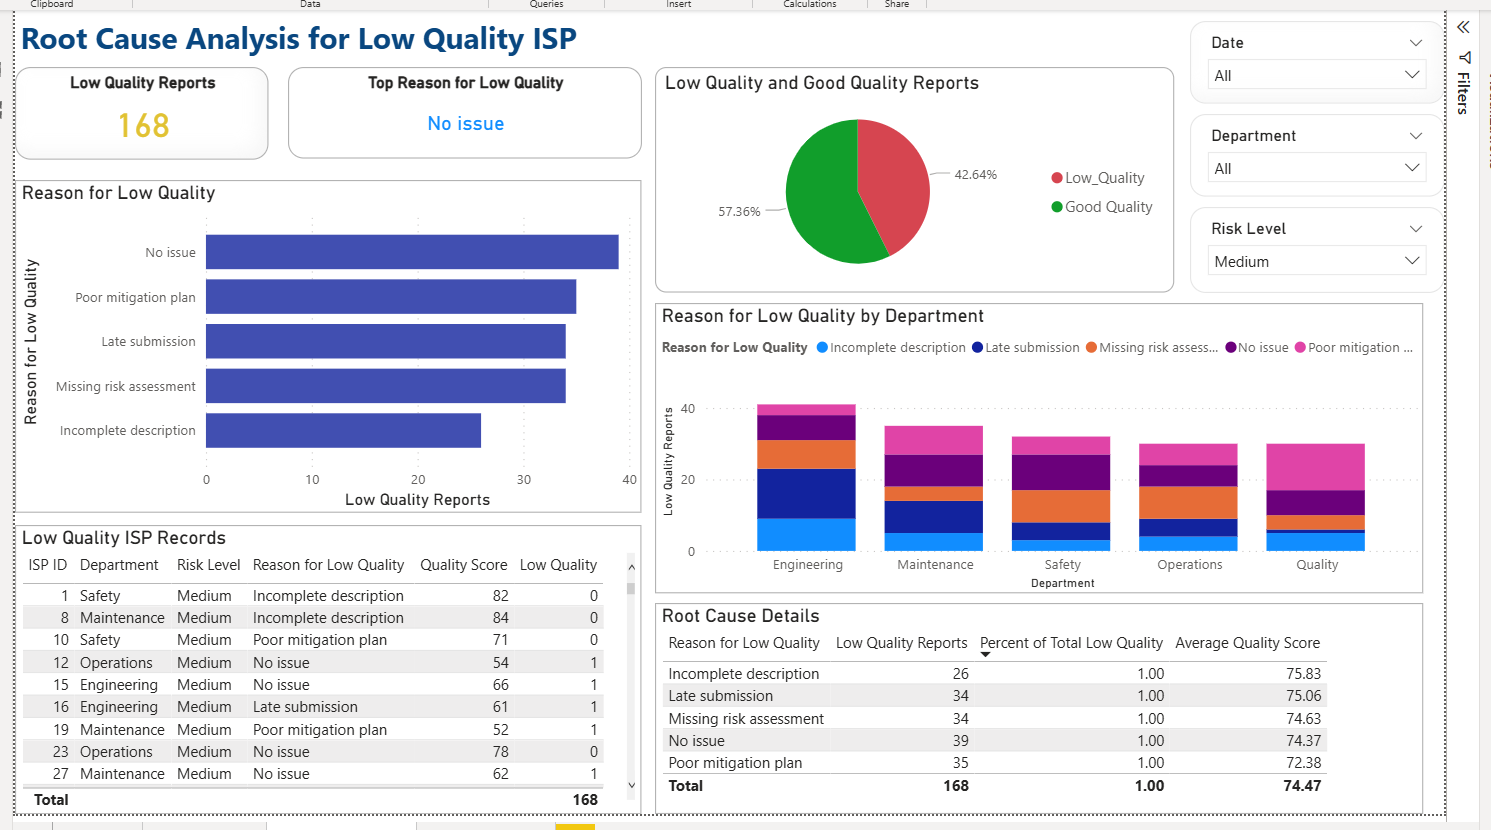

The page's visual inventory and layout, read from the dashboard file:
{"tool":"powerbi","page":{"name":"Root Cause Analysis","canvas":[1280,720],"ordinal":2},"visuals":[{"type":"textbox","box":[-0.1,0.6,535,58.4],"z":0},{"type":"slicer","fields":{"Values":["cleaned_isp_safety_data.Department"]},"box":[1052.3,93,227.6,73.9],"z":1},{"type":"slicer","fields":{"Values":["cleaned_isp_safety_data.Date.Variation.Date Hierarchy.Month"]},"box":[1052.3,10.3,227.6,73.9],"z":2},{"type":"slicer","fields":{"Values":["cleaned_isp_safety_data (2).Risk_Level"]},"box":[1052.3,176.6,227.6,76.8],"z":3},{"type":"pieChart","title":"Low Quality and Good Quality Reports","fields":{"Y":["Sum(cleaned_isp_safety_data.Low_Quality)","cleaned_isp_safety_data.Good Quality Reports"]},"box":[573.6,51.1,465.3,202.1],"z":4},{"type":"card","title":"Low Quality Reports","fields":{"Values":["cleaned_isp_safety_data.Low Quality Reports"]},"box":[-0.1,50.7,226.9,82.6],"z":5},{"type":"card","title":"Top Reason for Low Quality","fields":{"Values":["cleaned_isp_safety_data.Top Reason for Low Quality"]},"box":[244.1,51.1,316.8,82.1],"z":6},{"type":"clusteredBarChart","title":"Reason for Low Quality","fields":{"Category":["cleaned_isp_safety_data.Reason_for_Low_Quality"],"Y":["cleaned_isp_safety_data.Low Quality Reports"]},"box":[-0.1,152.1,561.1,297.9],"z":7},{"type":"columnChart","title":"Reason for Low Quality by Department","fields":{"Category":["cleaned_isp_safety_data.Department"],"Y":["cleaned_isp_safety_data.Low Quality Reports"],"Series":["cleaned_isp_safety_data.Reason_for_Low_Quality"]},"box":[573.6,262.7,688.4,260],"z":8},{"type":"tableEx","title":"Root Cause Details","fields":{"Values":["cleaned_isp_safety_data.Reason_for_Low_Quality","cleaned_isp_safety_data.Low Quality Reports","cleaned_isp_safety_data.Percent of Total Low Quality","cleaned_isp_safety_data.Average Quality Score"]},"box":[573.6,531.1,688.4,189.5],"z":9},{"type":"tableEx","title":"Low Quality ISP Records","fields":{"Values":["cleaned_isp_safety_data.ISP_ID","cleaned_isp_safety_data.Department","cleaned_isp_safety_data.Risk_Level","cleaned_isp_safety_data.Reason_for_Low_Quality","cleaned_isp_safety_data.Quality_Score","Sum(cleaned_isp_safety_data.Low_Quality)"]},"box":[-0.1,461.6,561.1,258.9],"z":10}]}

Visuals, with their boxes on the page's 1280x720 design canvas (x1, y1, x2, y2). These are canvas units, not pixel positions in the 1491x830 screenshot, which may show the page scaled, cropped or inside an application window:
textbox: x1=0, y1=1, x2=535, y2=59
slicer - cleaned_isp_safety_data.Department: x1=1052, y1=93, x2=1280, y2=167
slicer - cleaned_isp_safety_data.Date.Variation.Date Hierarchy.Month: x1=1052, y1=10, x2=1280, y2=84
slicer - cleaned_isp_safety_data (2).Risk_Level: x1=1052, y1=177, x2=1280, y2=253
"Low Quality and Good Quality Reports" pieChart: x1=574, y1=51, x2=1039, y2=253
"Low Quality Reports" card: x1=0, y1=51, x2=227, y2=133
"Top Reason for Low Quality" card: x1=244, y1=51, x2=561, y2=133
"Reason for Low Quality" clusteredBarChart: x1=0, y1=152, x2=561, y2=450
"Reason for Low Quality by Department" columnChart: x1=574, y1=263, x2=1262, y2=523
"Root Cause Details" tableEx: x1=574, y1=531, x2=1262, y2=721
"Low Quality ISP Records" tableEx: x1=0, y1=462, x2=561, y2=720
